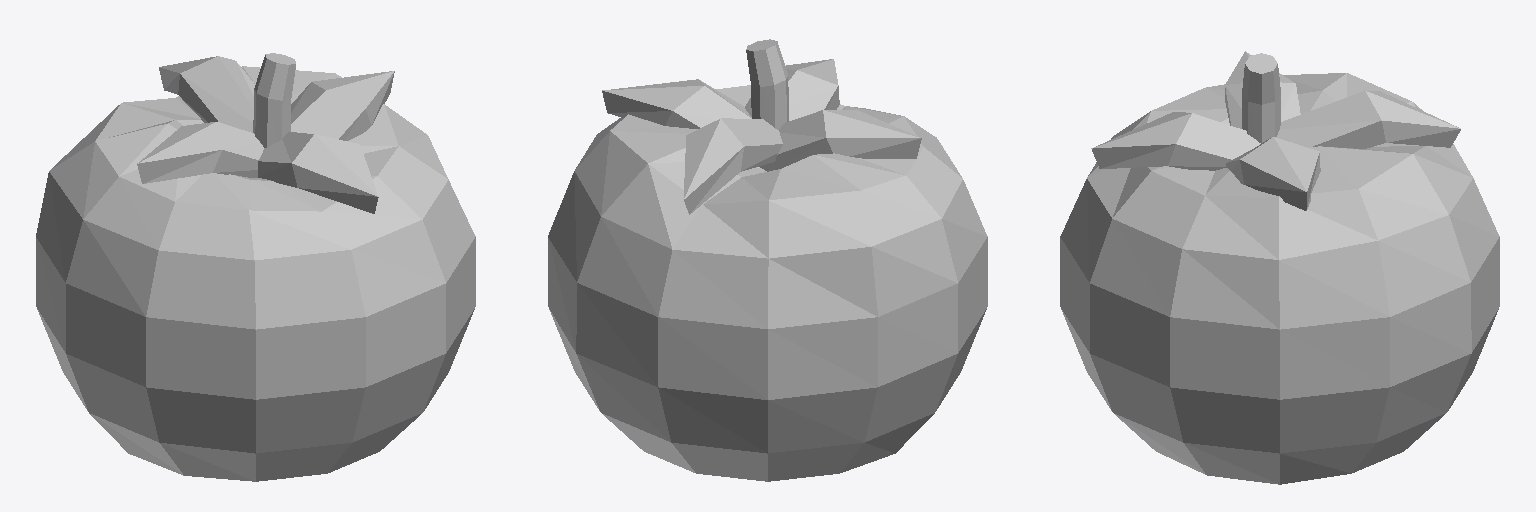
File: tomato.obj
The picture shows the model from 3 angles: view 1: azimuth 30°, elevation 25°; view 2: azimuth 150°, elevation 25°; view 3: azimuth 270°, elevation 25°; orthographic projection.
Parts seen in each view (by area): view 1: Sphere.016; view 2: Sphere.016; view 3: Sphere.016.
Part boxes in pixels (x1,y1,x2,y2): Sphere.016: (36, 53, 475, 481); Sphere.016: (548, 39, 987, 481); Sphere.016: (1060, 51, 1499, 484).
Size of the model in its own units: 138 by 142 by 138.